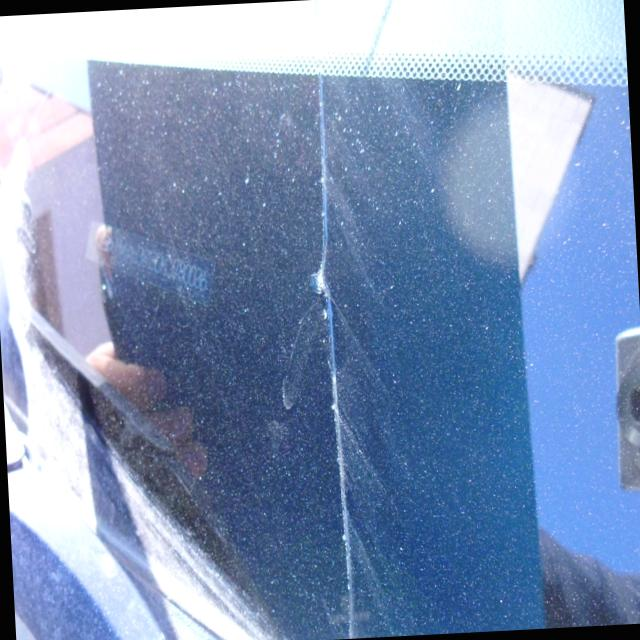Fissure: (293, 23, 378, 640)
